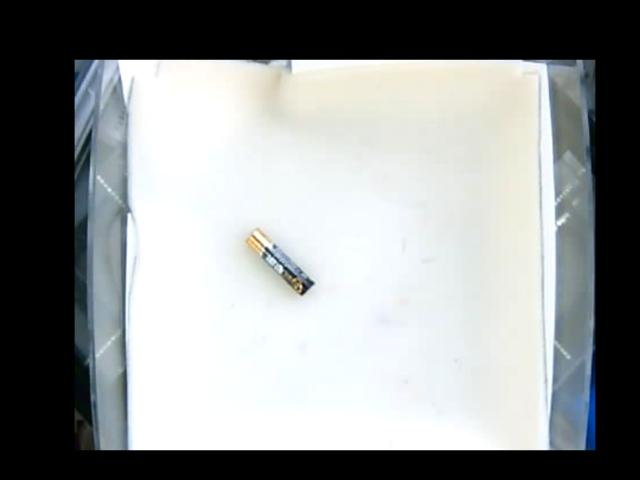Battery: (247, 228, 319, 294)
